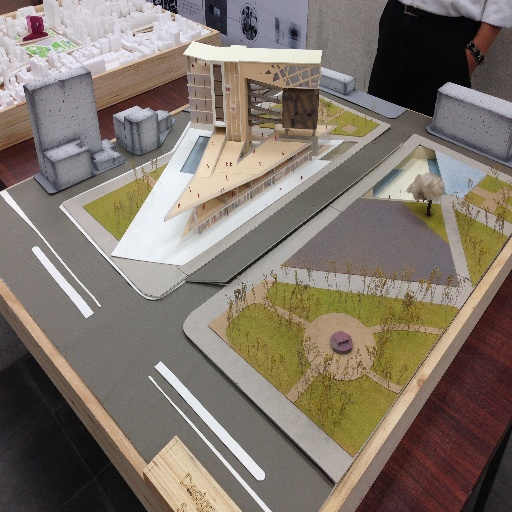hand: (464, 43, 479, 76)
